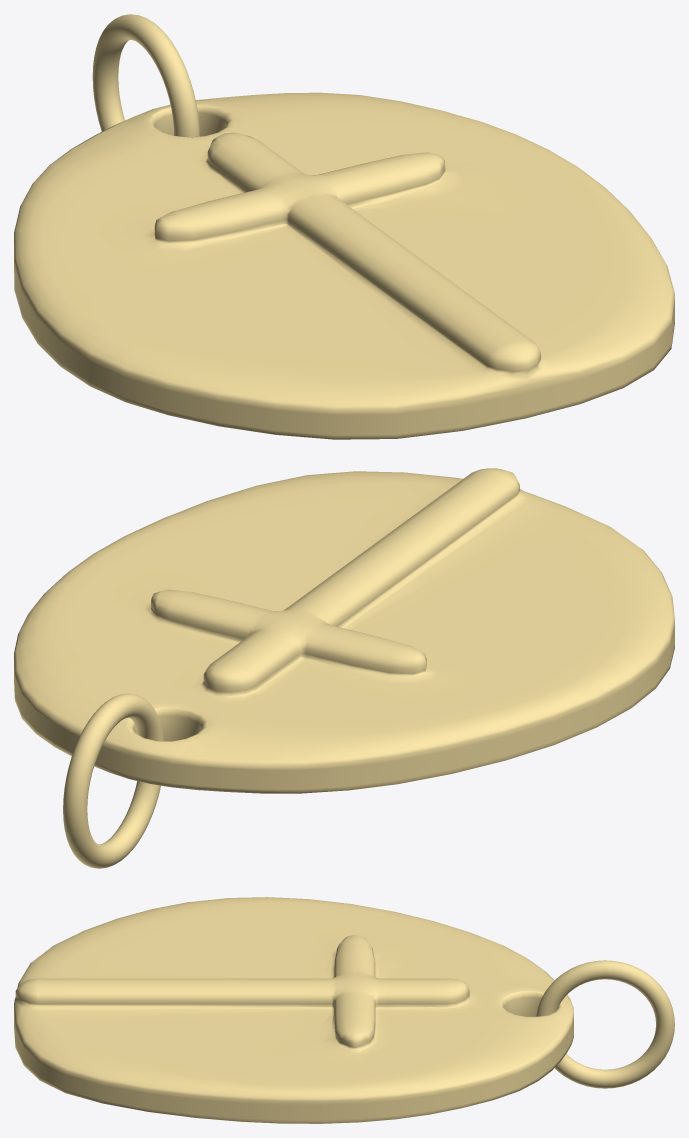
Rendered from Inspire_Charm.glb.
3 renders of one model, top to bottom at view 1: azimuth 30°, elevation 25°; view 2: azimuth 150°, elevation 25°; view 3: azimuth 270°, elevation 25°, orthographic. The views are drawn at different scales.
Visible parts, largest first — view 1: Inspire_Charm; view 2: Inspire_Charm; view 3: Inspire_Charm.
Boxes of the visible parts, x1,y1,x2,y2 form: Inspire_Charm: (14,14,674,439); Inspire_Charm: (14,468,674,868); Inspire_Charm: (14,897,674,1123).
Bounding box in the file's own units: 0.0197 × 0.00574 × 0.0272.
